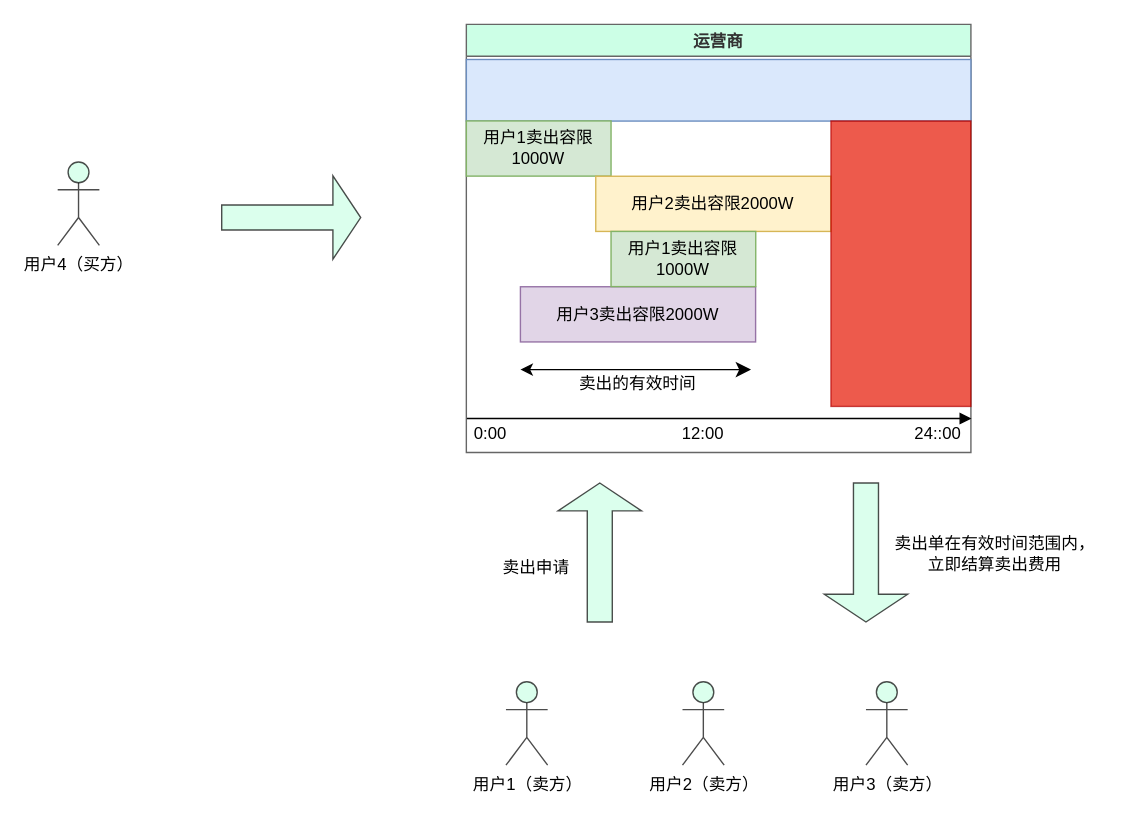
Image size: 1133x819. Some labels were removed from this diagram. The centre of each missing label's shape, as x and y in pixels:
"不接受卖单 时间段" belongs at pixel 900 263.
"区域冗余量" belongs at pixel 718 89.
"增容申请" belongs at pixel 290 216.
